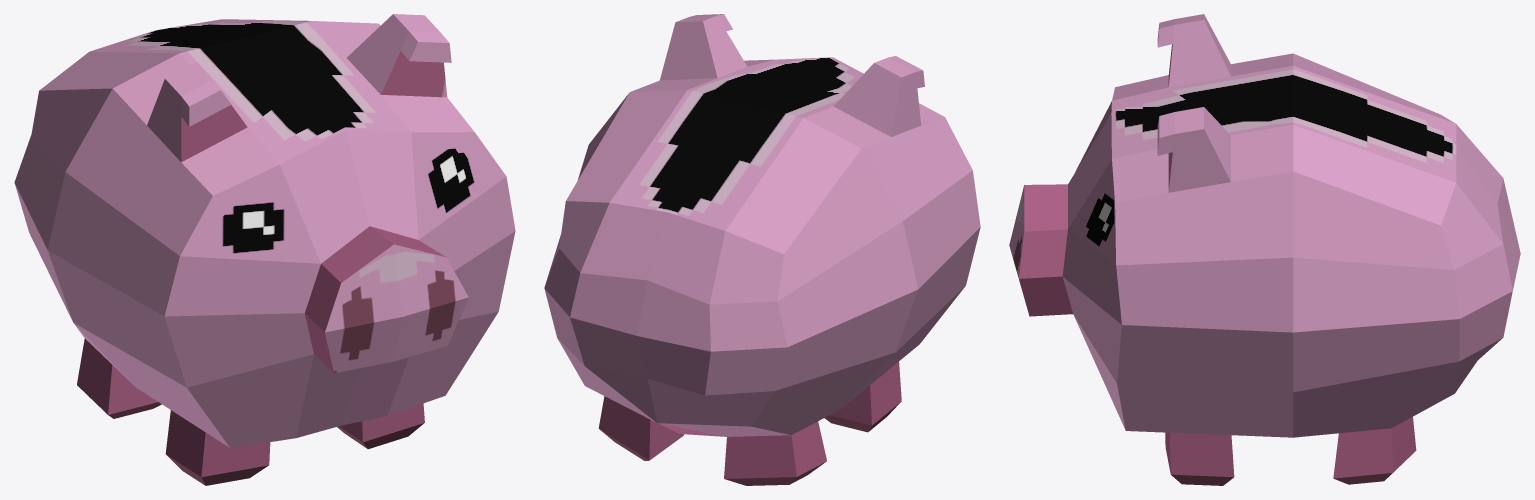
The model's file is ChanchoAlcancia.fbx.
3 views of the same model, side by side, from view 1: azimuth 30°, elevation 25°; view 2: azimuth 150°, elevation 25°; view 3: azimuth 270°, elevation 25° (orthographic). The views are drawn at different scales.
Parts seen in each view (by area): view 1: Chancho; view 2: Chancho; view 3: Chancho.
Boxes of the visible parts, left/top/right/bottom form: Chancho: left=14, top=14, right=515, bottom=485; Chancho: left=544, top=14, right=980, bottom=485; Chancho: left=1009, top=14, right=1520, bottom=485.
Bounding box in the file's own units: 436 × 439 × 537.
1 material, 1 textured.
